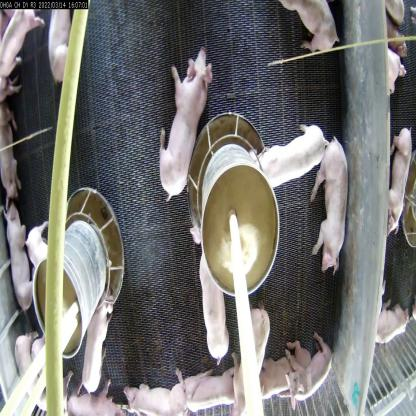Pig: (155, 41, 210, 204), (257, 116, 328, 208), (311, 137, 354, 274), (241, 301, 277, 416), (199, 242, 234, 360), (0, 6, 43, 84), (179, 363, 242, 415), (72, 313, 110, 392), (44, 1, 78, 86), (294, 342, 332, 412), (16, 336, 43, 415), (0, 98, 18, 210), (122, 383, 180, 415), (63, 388, 127, 415), (6, 218, 26, 298)
